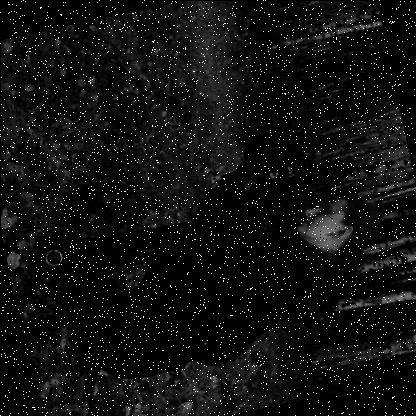rifle: (212, 41, 330, 243)
